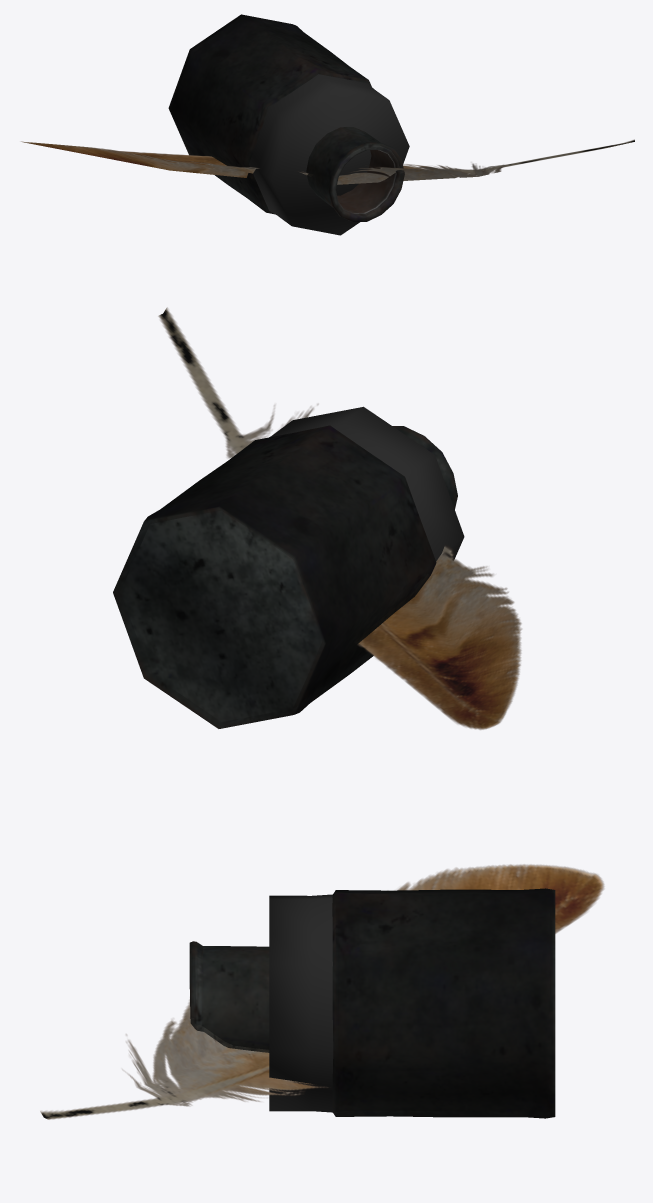
File: ink-bottle-with-quill-ef967c.glb
3 renders of one model, top to bottom at view 1: azimuth 30°, elevation 25°; view 2: azimuth 150°, elevation 25°; view 3: azimuth 270°, elevation 25°, orthographic. The views are drawn at different scales.
Parts seen in each view (by area): view 1: PropMesh; view 2: PropMesh; view 3: PropMesh.
Part boxes in pixels (x1,y1,x2,y2): PropMesh: (21,14,634,235); PropMesh: (113,307,521,729); PropMesh: (40,864,604,1119).
Size of the model in its own units: 1.25 by 0.35 by 0.8934.
Materials: 1 (1 with a texture image).
